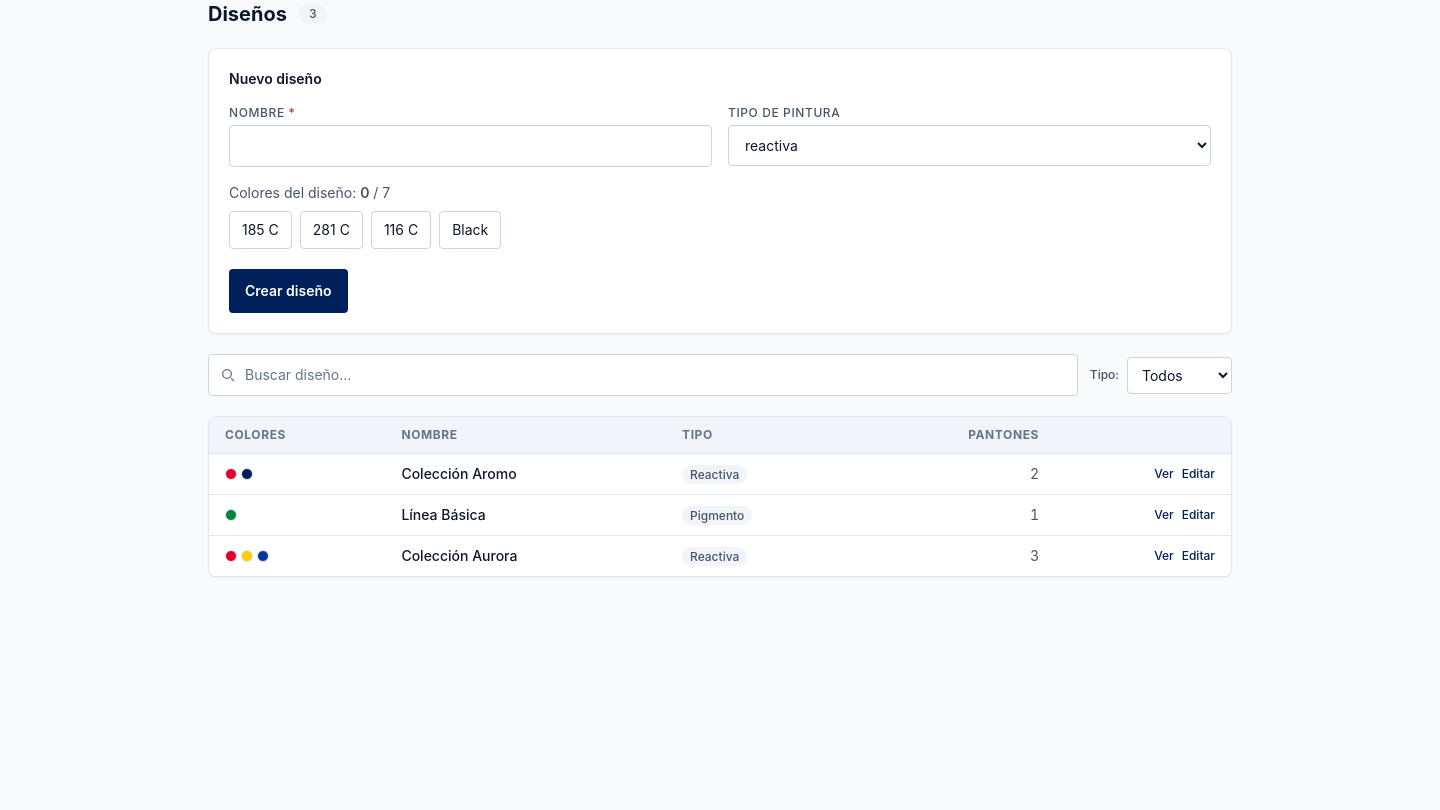
Test: DesignsPage › stages the create behind a confirmation dialog — no POST before confirm (P1)
The image size is (1440, 810).
Type "Colección Nueva" into the field labelled "Nombre *" at point(470, 146), box x1=229 y1=125 x2=712 y2=167
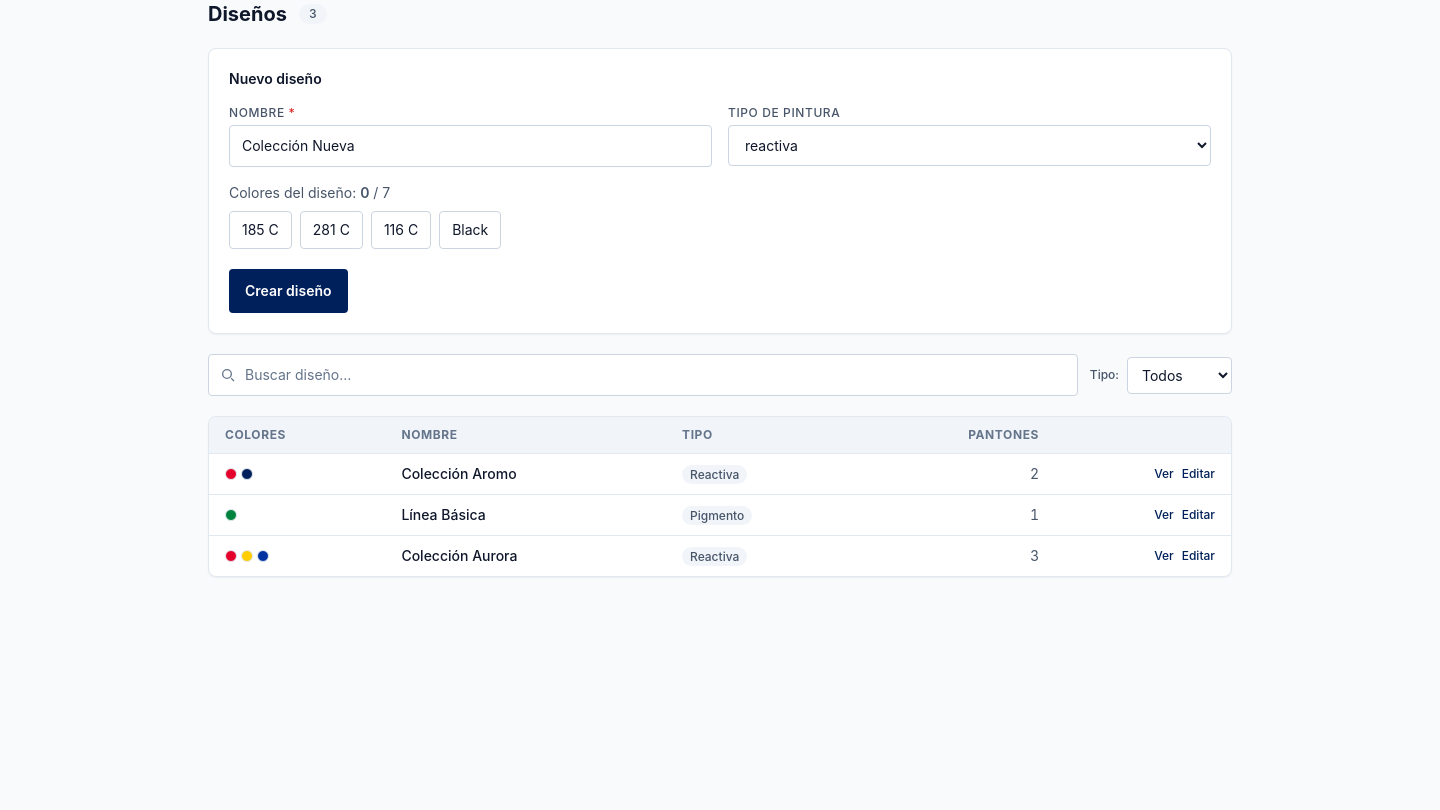
Click the button "Crear diseño" at point(288, 291), box x1=229 y1=269 x2=348 y2=313
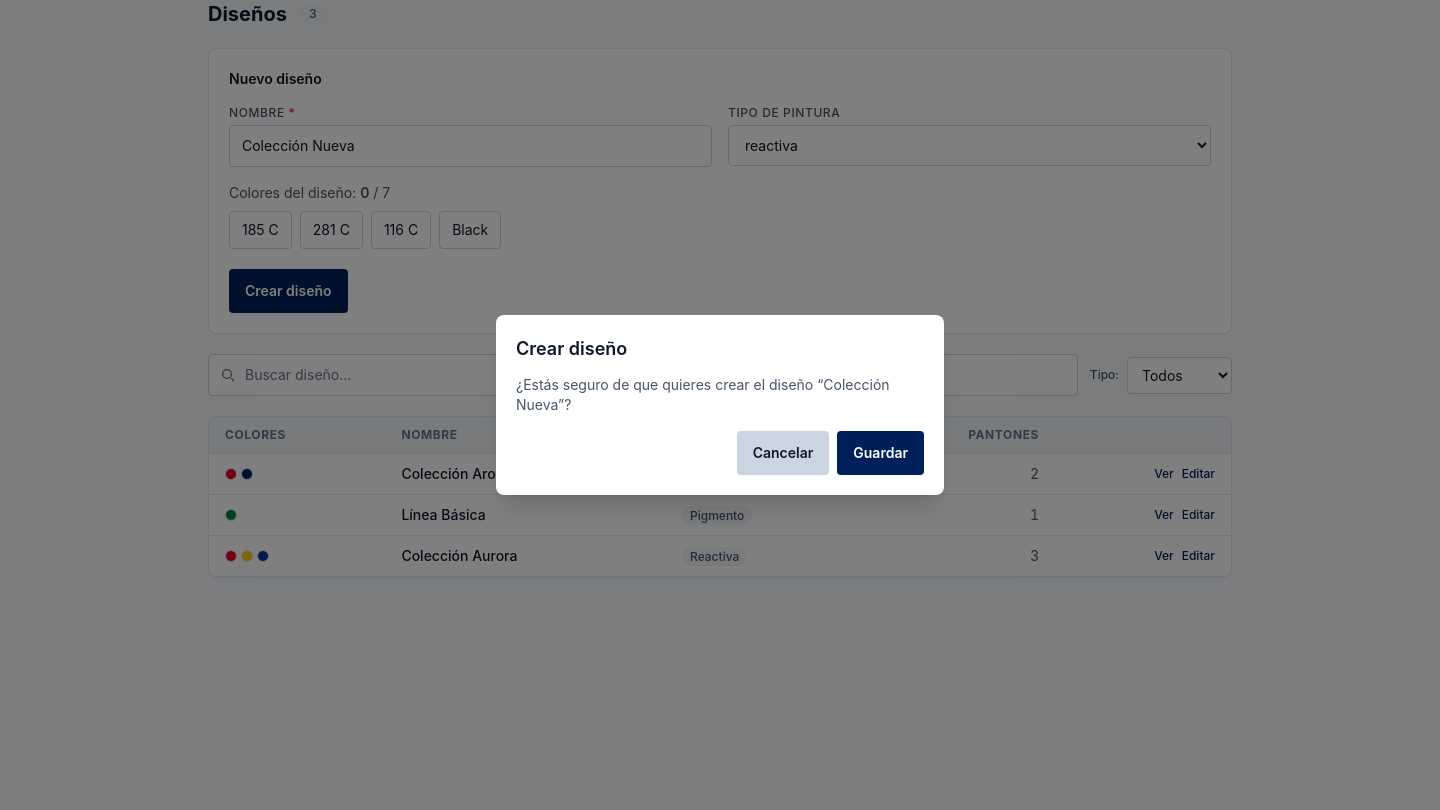
Result: the dialog is shown
Result: the button "Guardar" is shown at x1=837 y1=431 x2=924 y2=475
